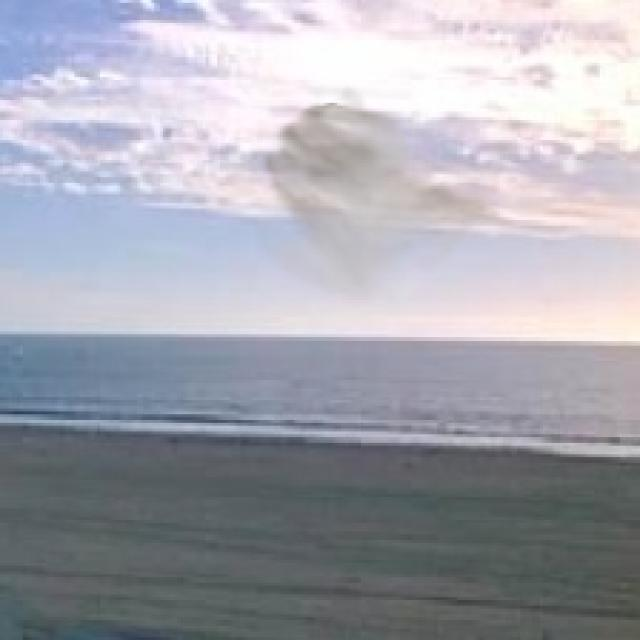smoke: (240, 83, 506, 308)
